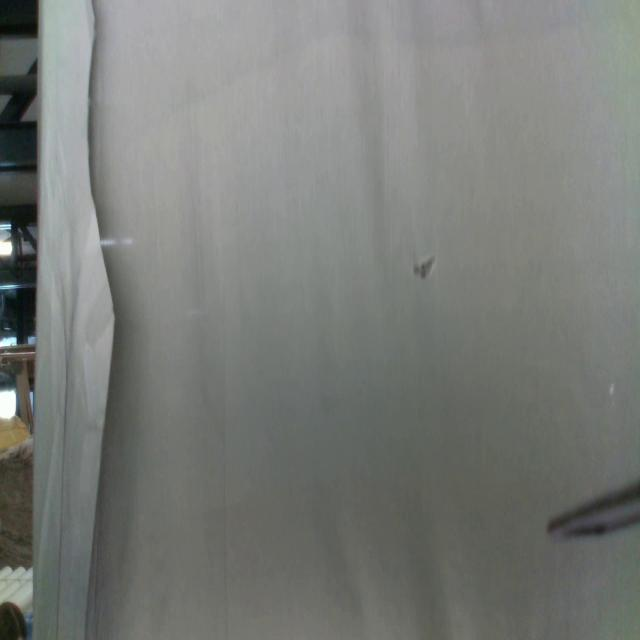hole: (412, 253, 437, 282)
